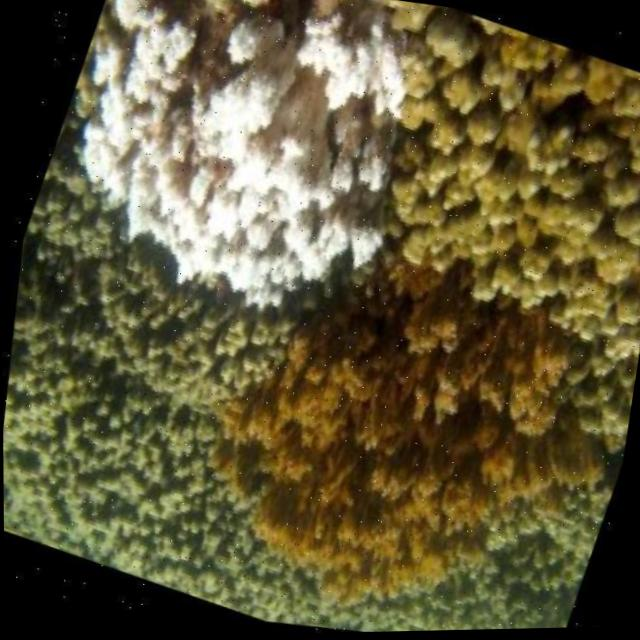Bleached Coral: (76, 0, 398, 303)
Healthy Coral: (195, 286, 593, 620), (384, 28, 640, 317)
